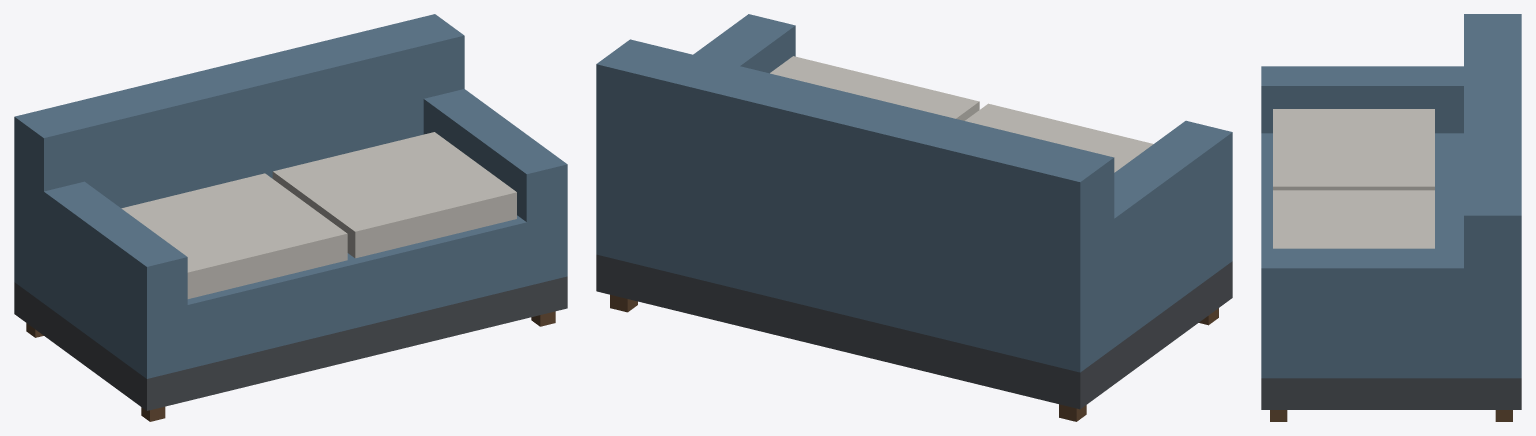
Rendered from sofa_2.glb.
The picture shows the model from 3 angles, left to right: view 1: azimuth 30°, elevation 25°; view 2: azimuth 150°, elevation 25°; view 3: azimuth 270°, elevation 25°; orthographic projection. The views are drawn at different scales.
Visible parts, largest first — view 1: sofa_2; view 2: sofa_2; view 3: sofa_2.
Boxes of the visible parts, x1,y1,x2,y2 form: sofa_2: (14,14,567,421); sofa_2: (596,14,1232,421); sofa_2: (1261,14,1521,421).
Bounding box in the file's own units: 1.65 × 0.8 × 0.9.
